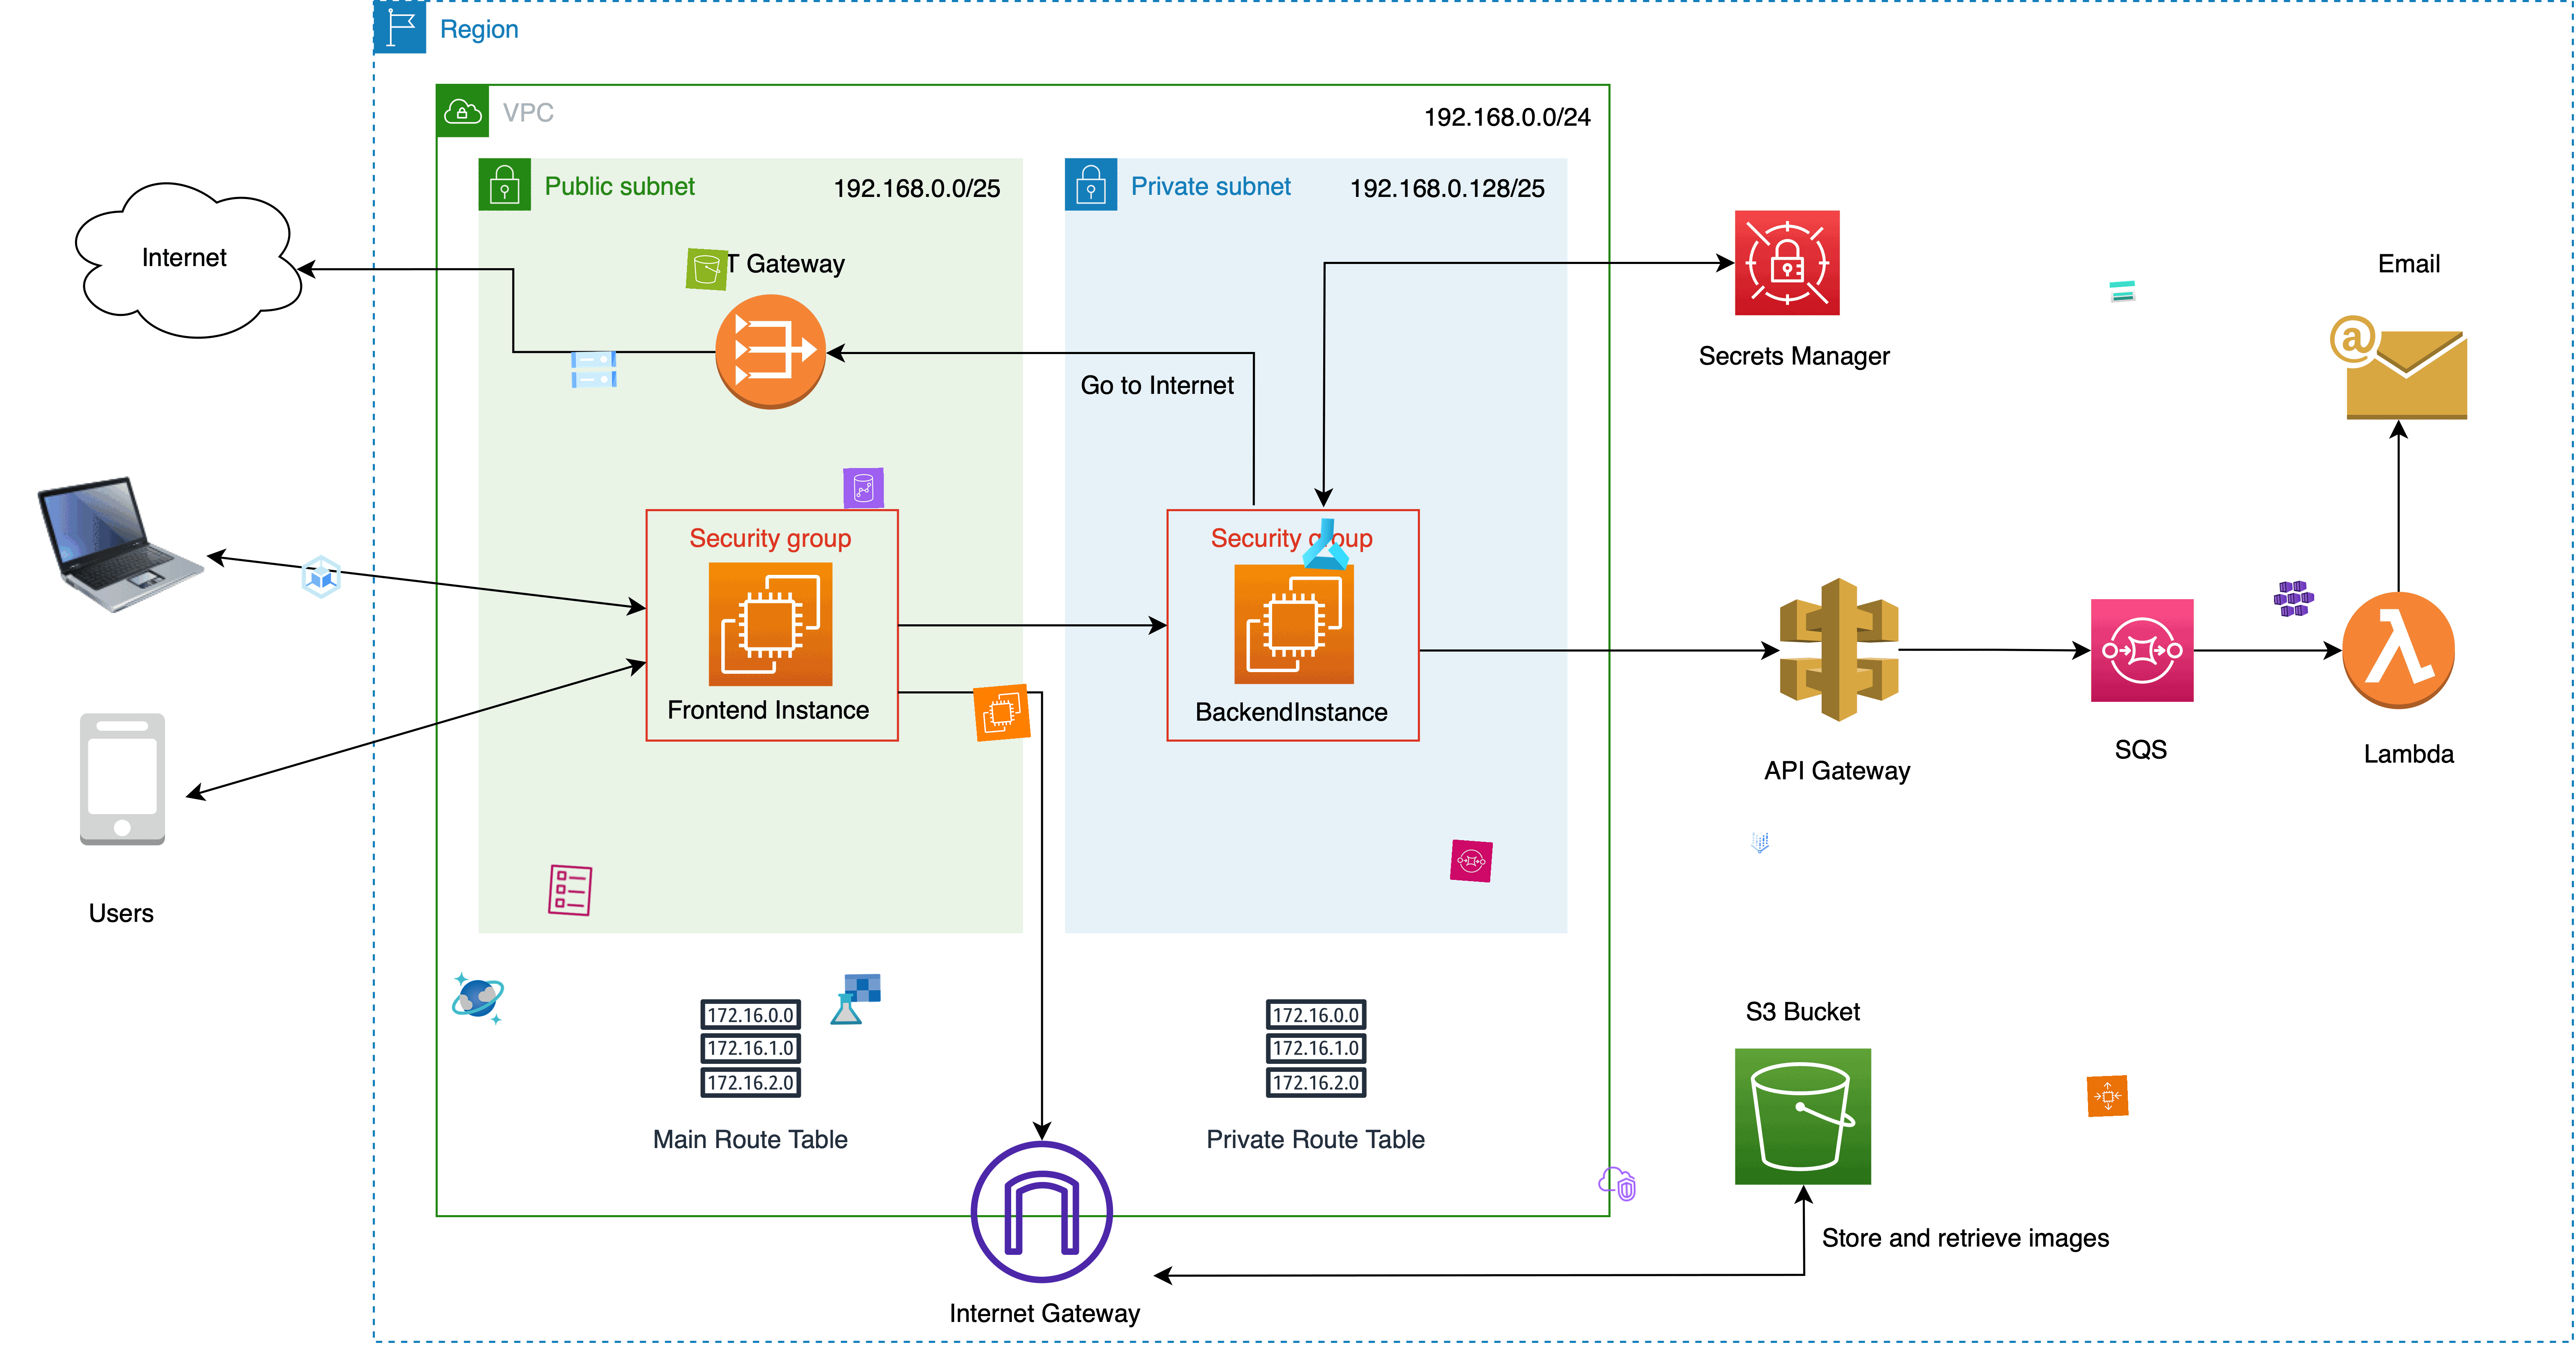aws_amazon_ec2: (973, 684, 1031, 742)
aws_amazon_ec2_auto_scaling: (2087, 1076, 2128, 1117)
aws_amazon_redshift: (843, 467, 884, 508)
aws_amazon_simple_queue_service: (1450, 839, 1492, 883)
aws_amazon_simple_storage_service: (685, 249, 729, 292)
aws_cloudformation_template: (540, 861, 598, 919)
aws_vpc_virtual_private_cloud_vpc: (1595, 1163, 1639, 1205)
azure_cosmos_db: (450, 970, 506, 1028)
azure_kubernetes_services: (2273, 576, 2315, 621)
azure_machine_learning: (1298, 515, 1354, 573)
azure_machine_learning_studio_workspaces: (828, 972, 883, 1026)
azure_storage_accounts: (2107, 276, 2138, 307)
gcp_cloud_storage: (566, 343, 622, 397)
gcp_google_kubernetes_engine: (295, 549, 349, 603)
gcp_vertex_ai: (1746, 828, 1774, 857)
